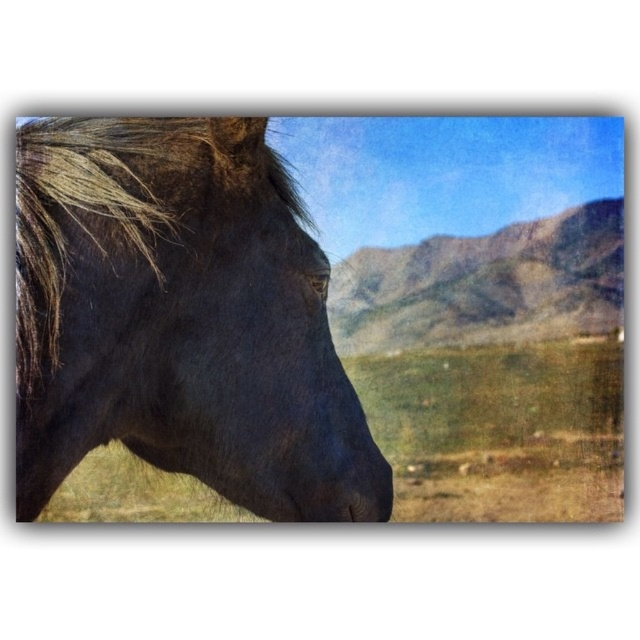Horse: (17, 115, 395, 525)
